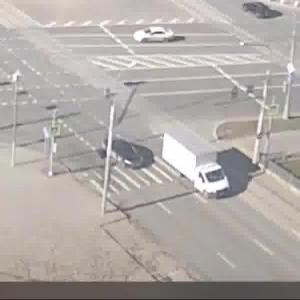car: (162, 128, 235, 201), (101, 140, 151, 171), (133, 28, 179, 46), (241, 1, 277, 22)
